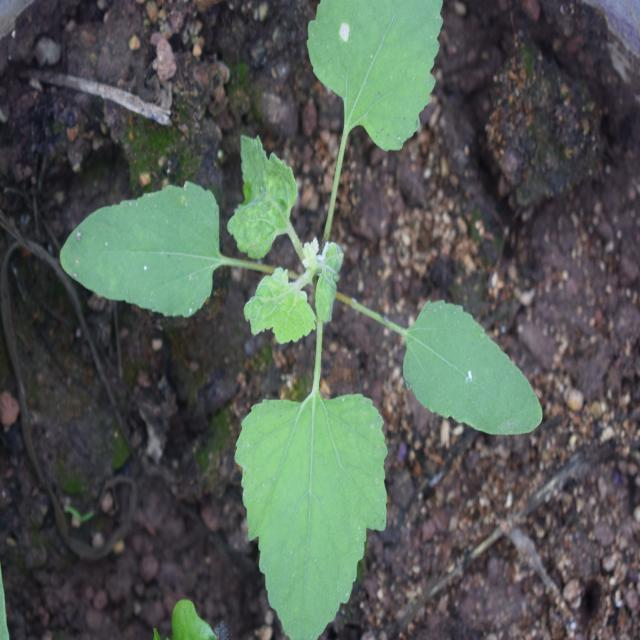cocklebur: (86, 13, 544, 612)
